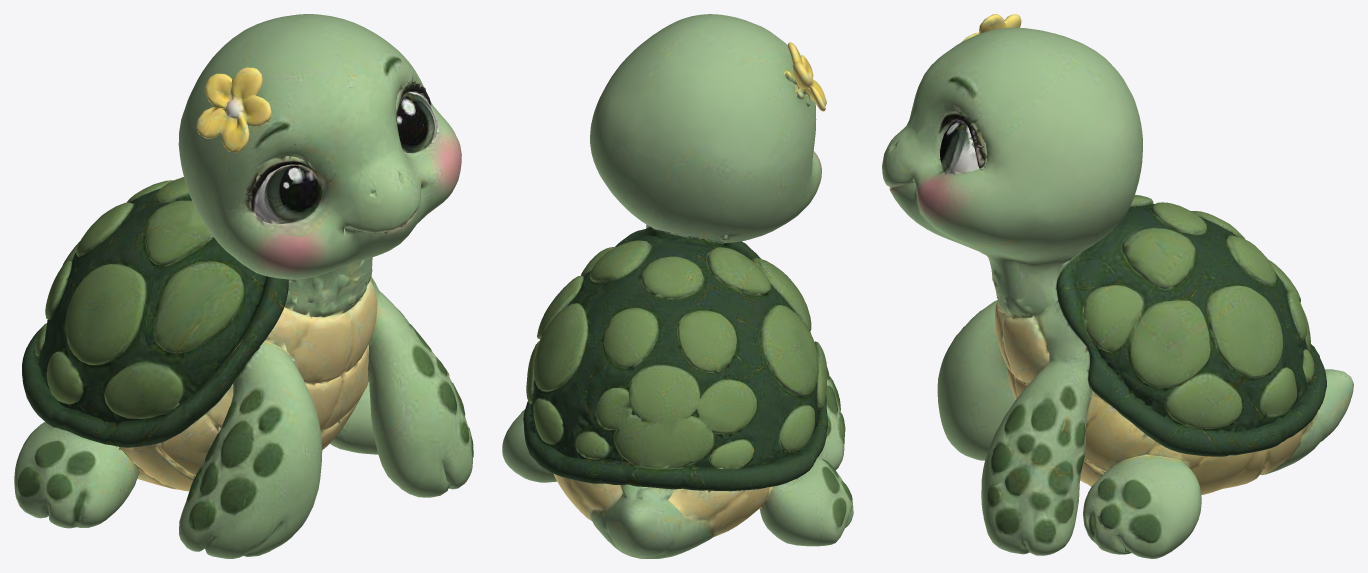
3 renders of one model, left to right at view 1: azimuth 30°, elevation 25°; view 2: azimuth 150°, elevation 25°; view 3: azimuth 270°, elevation 25°, orthographic. The views are drawn at different scales.
Bounding box in the file's own units: 1.55 × 1.9 × 1.8.
Materials: 1 (1 with a texture image).
